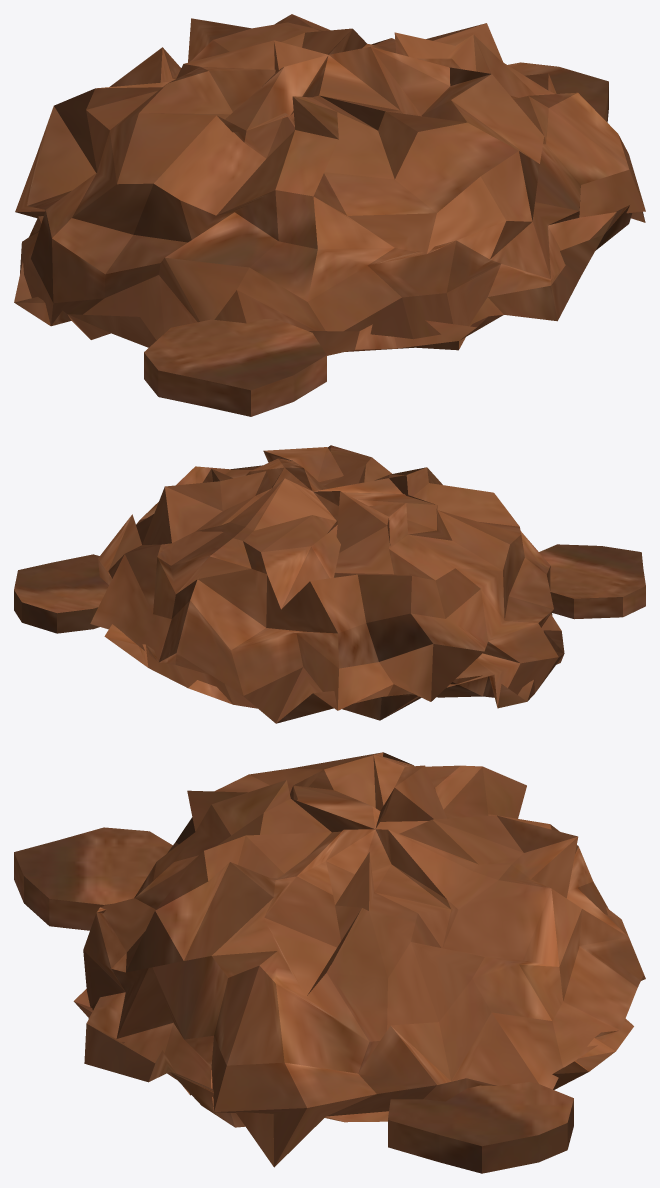
File: clay.glb
3 renders of one model, top to bottom at view 1: azimuth 30°, elevation 25°; view 2: azimuth 150°, elevation 25°; view 3: azimuth 270°, elevation 25°, orthographic. The views are drawn at different scales.
Parts seen in each view (by area): view 1: model; view 2: model; view 3: model.
Part boxes in pixels (x1,y1,x2,y2): model: (14, 14, 645, 416); model: (14, 445, 645, 723); model: (14, 752, 645, 1173).
Bounding box in the file's own units: 0.2994 × 0.0979 × 0.2508.
Materials: 2 (2 with a texture image).
